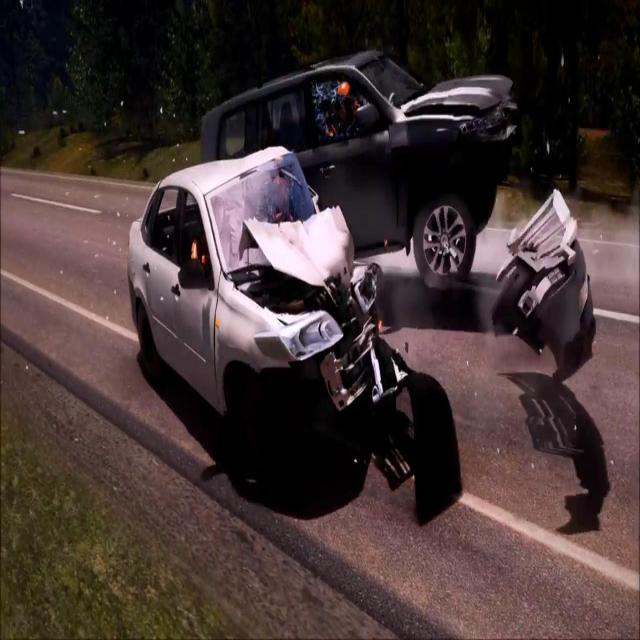severe: (123, 40, 529, 487)
